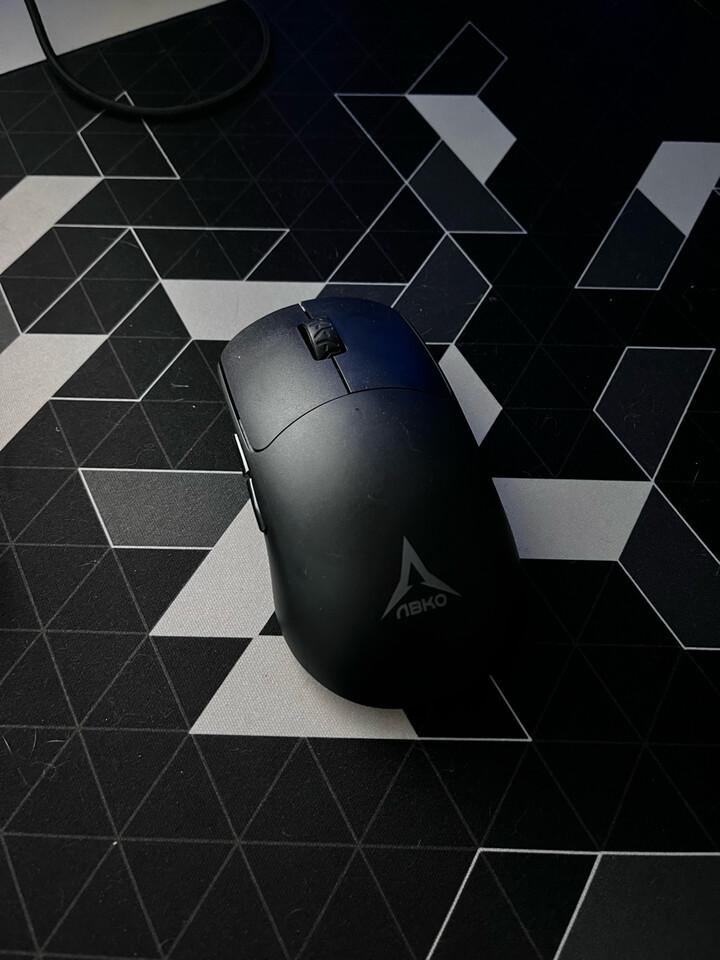mouse: (215, 294, 526, 710)
